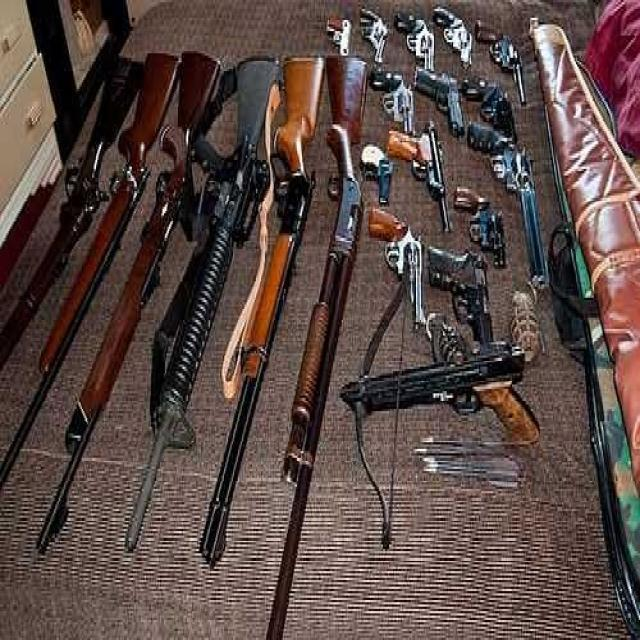weapon: (28, 56, 233, 560), (118, 54, 294, 582), (198, 15, 336, 589), (3, 56, 180, 492), (266, 42, 387, 640), (340, 266, 550, 546), (0, 42, 154, 362)
